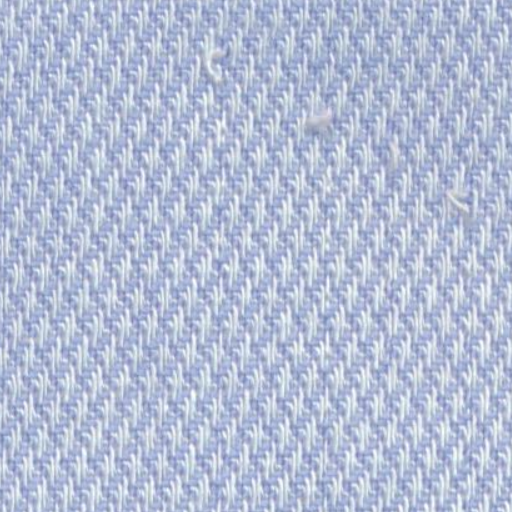DuanSha: (174, 19, 260, 106), (296, 82, 352, 166), (436, 172, 484, 234)
